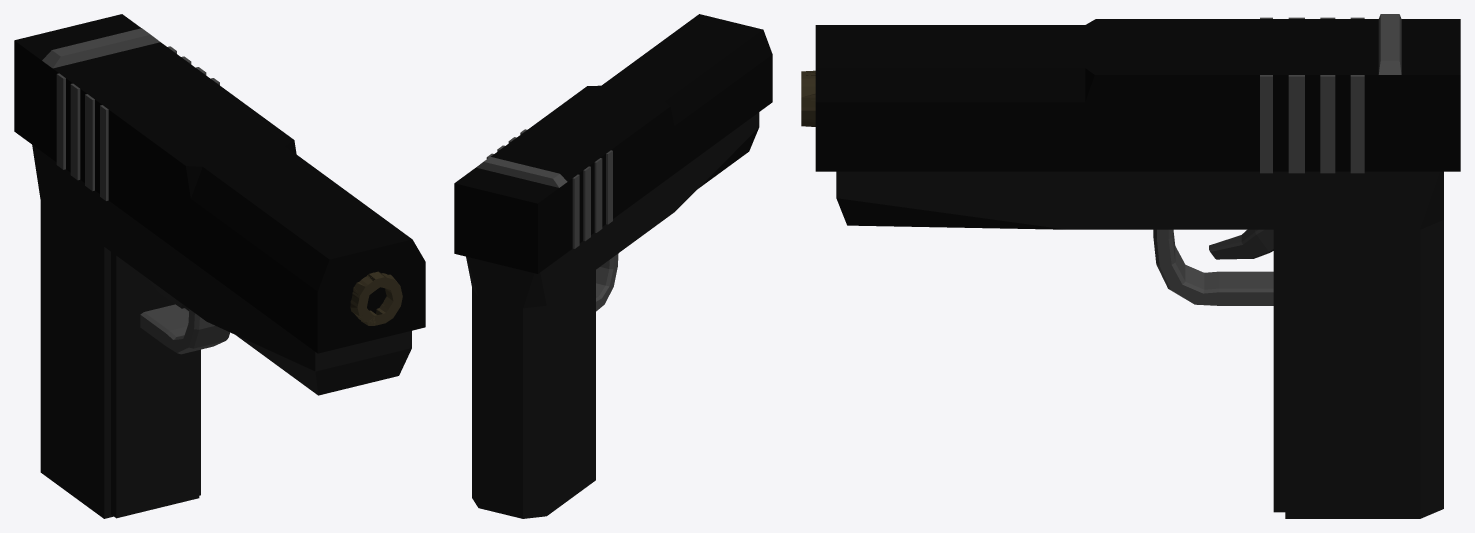
File: Pistol.fbx
3 renders of one model, left to right at view 1: azimuth 30°, elevation 25°; view 2: azimuth 150°, elevation 25°; view 3: azimuth 270°, elevation 25°, orthographic. The views are drawn at different scales.
Visible parts, largest first — view 1: Cube, Cube.002, Cylinder; view 2: Cube, Cube.002; view 3: Cube, Cube.002, Cube.001, Cylinder.
Part boxes in pixels (box(x1,y1,x2,y2)): Cube: box(14, 14, 425, 518); Cube.002: box(140, 304, 229, 354); Cylinder: box(350, 271, 402, 325); Cube: box(454, 14, 772, 518); Cube.002: box(596, 253, 618, 311); Cube: box(815, 14, 1460, 518); Cube.002: box(1153, 229, 1273, 305); Cube.001: box(1209, 229, 1273, 259); Cylinder: box(801, 70, 815, 126).
Bounding box in the file's own units: 211 × 759 × 995.
